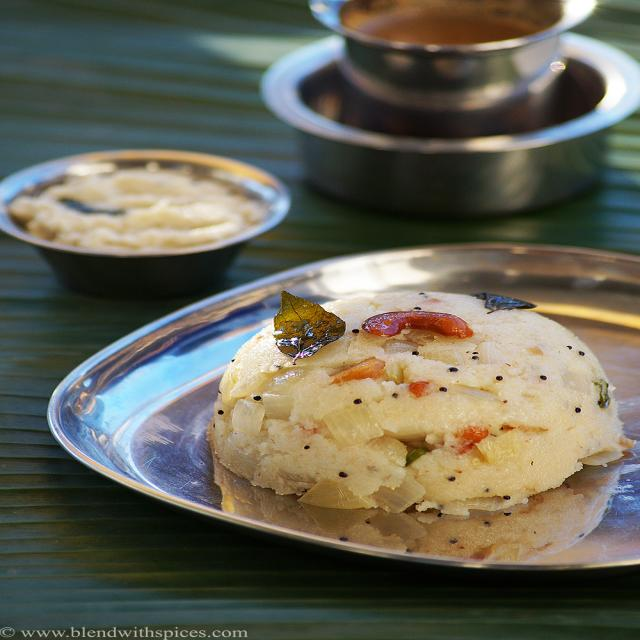UPMA: (213, 291, 632, 515)
